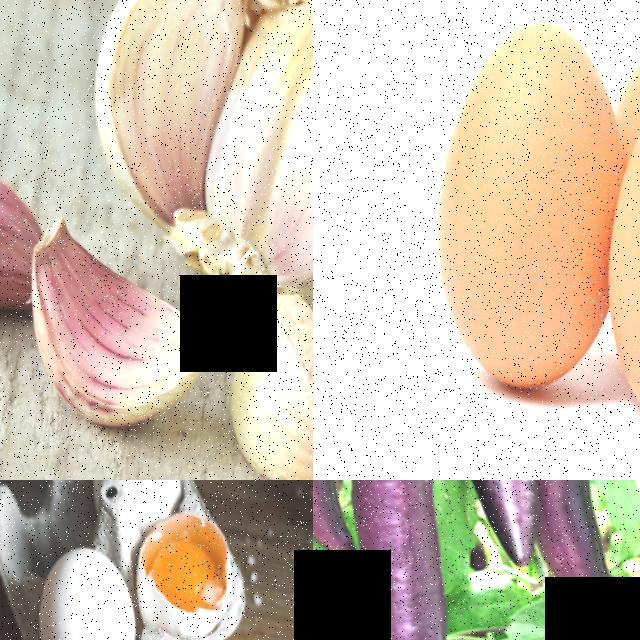egg_: (416, 0, 632, 408), (593, 41, 640, 456), (27, 532, 139, 640), (143, 524, 220, 607)
eggplant: (327, 480, 489, 640)
garlic: (72, 0, 313, 317), (19, 209, 221, 436), (218, 273, 313, 480), (0, 147, 36, 373)
